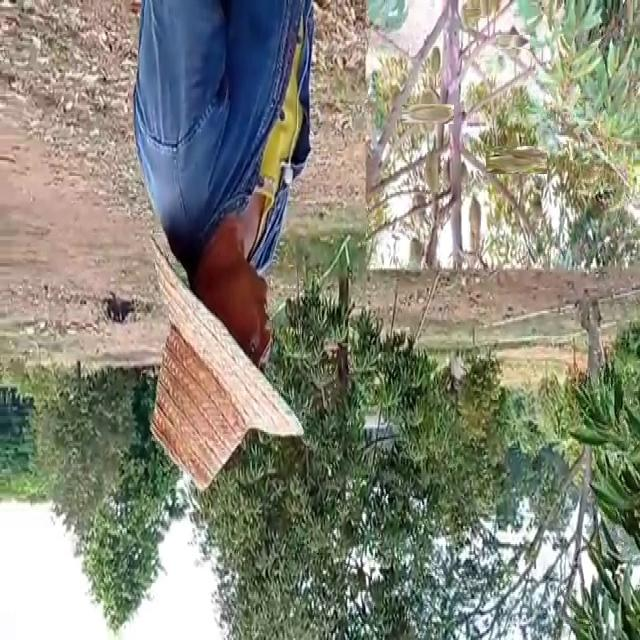durian: (493, 138, 539, 182), (410, 96, 447, 132), (426, 152, 446, 197), (501, 30, 526, 54), (428, 44, 444, 78), (462, 4, 474, 33), (468, 5, 484, 20), (480, 2, 490, 16), (489, 2, 501, 12)
